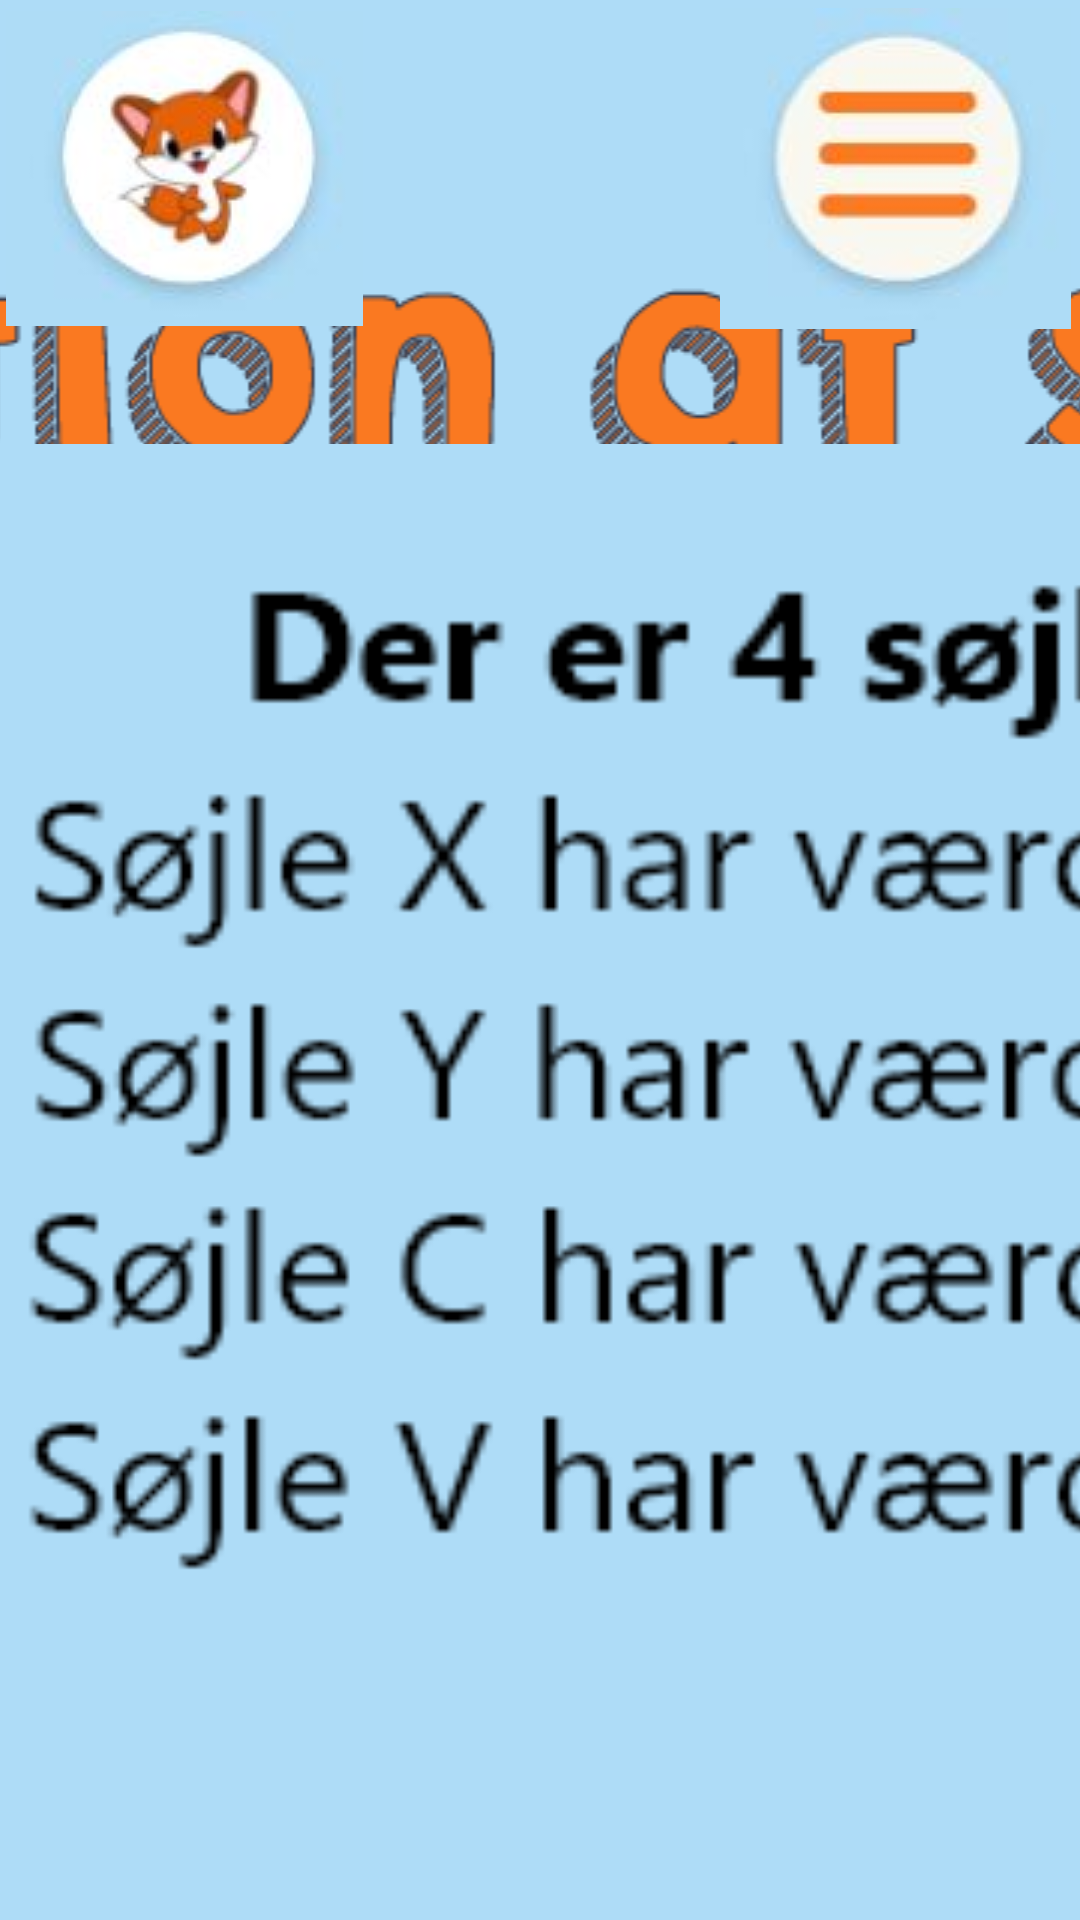

Named icons in this screenshot (1080px×1920px) and their centers, [x,y]:
menubtn: [899,162]
